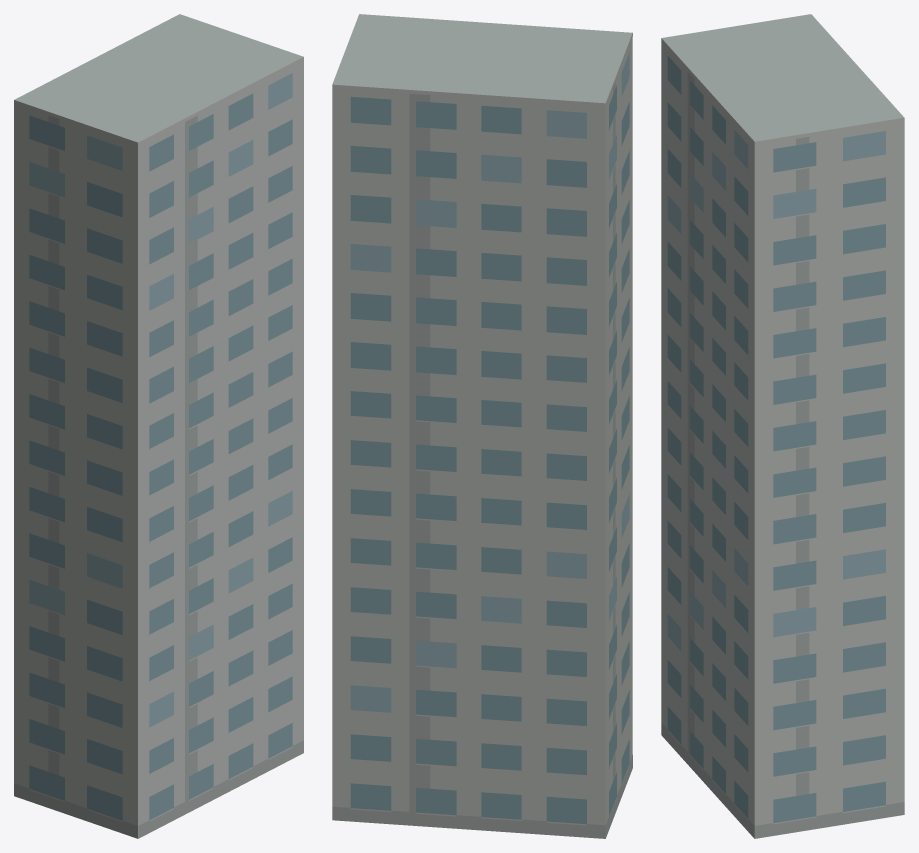
Rendered from residential-770b4c71-ec31-4e10-88ca-dbd43860396f.glb.
The picture shows the model from 3 angles, left to right: view 1: azimuth 30°, elevation 25°; view 2: azimuth 150°, elevation 25°; view 3: azimuth 270°, elevation 25°; orthographic projection. The views are drawn at different scales.
Parts seen in each view (by area): view 1: residential-770b4c71-ec31-4e10-88ca-dbd43860396f.tmp; view 2: residential-770b4c71-ec31-4e10-88ca-dbd43860396f.tmp; view 3: residential-770b4c71-ec31-4e10-88ca-dbd43860396f.tmp.
Boxes of the visible parts, x1,y1,x2,y2 form: residential-770b4c71-ec31-4e10-88ca-dbd43860396f.tmp: (14, 14, 303, 838); residential-770b4c71-ec31-4e10-88ca-dbd43860396f.tmp: (332, 14, 632, 838); residential-770b4c71-ec31-4e10-88ca-dbd43860396f.tmp: (661, 14, 904, 838).
Bounding box in the file's own units: 18.09 × 46 × 14.55.
